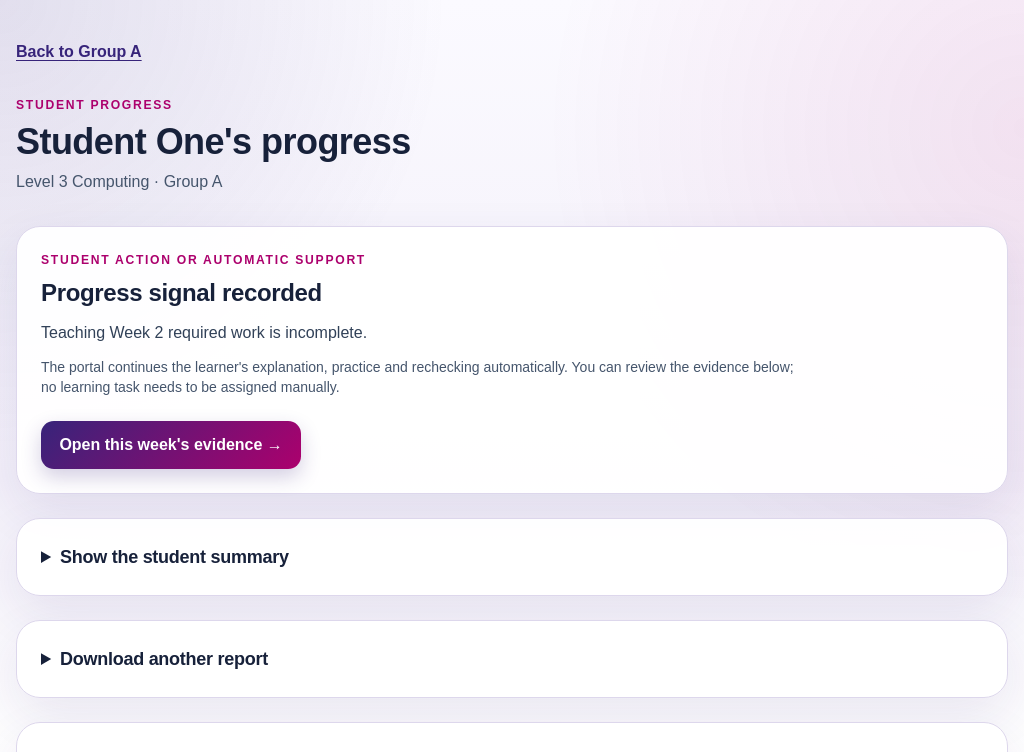
it: teacher learner summary › keeps the teacher page focused on progress evidence rather than assigning learning tasks
Expected: the heading "Student One's progress" is shown, [16,121,411,162]
Expected: the heading "Progress signal recorded" is shown, [41,280,322,306]
What coordinates should you click on to do the following:
click the heading "Download another report"
I would click on:
 (164, 660)
Its box is [60,650,268,670].
(page scrolled)
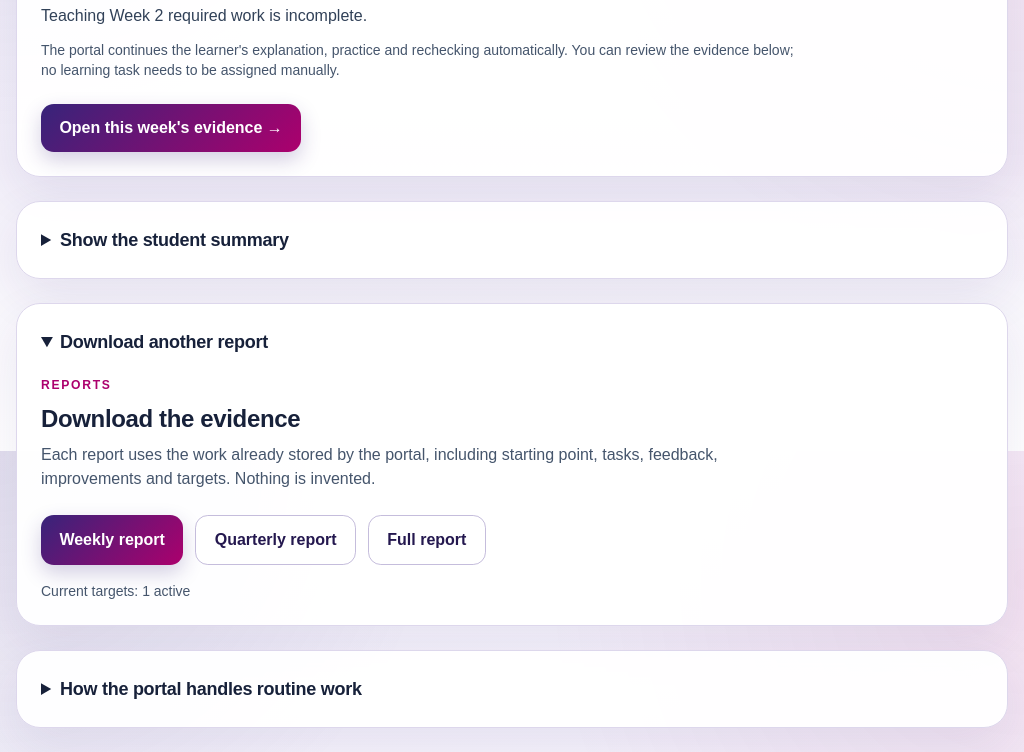
Now the link "Quarterly report" is shown, box [195,515,356,565]
